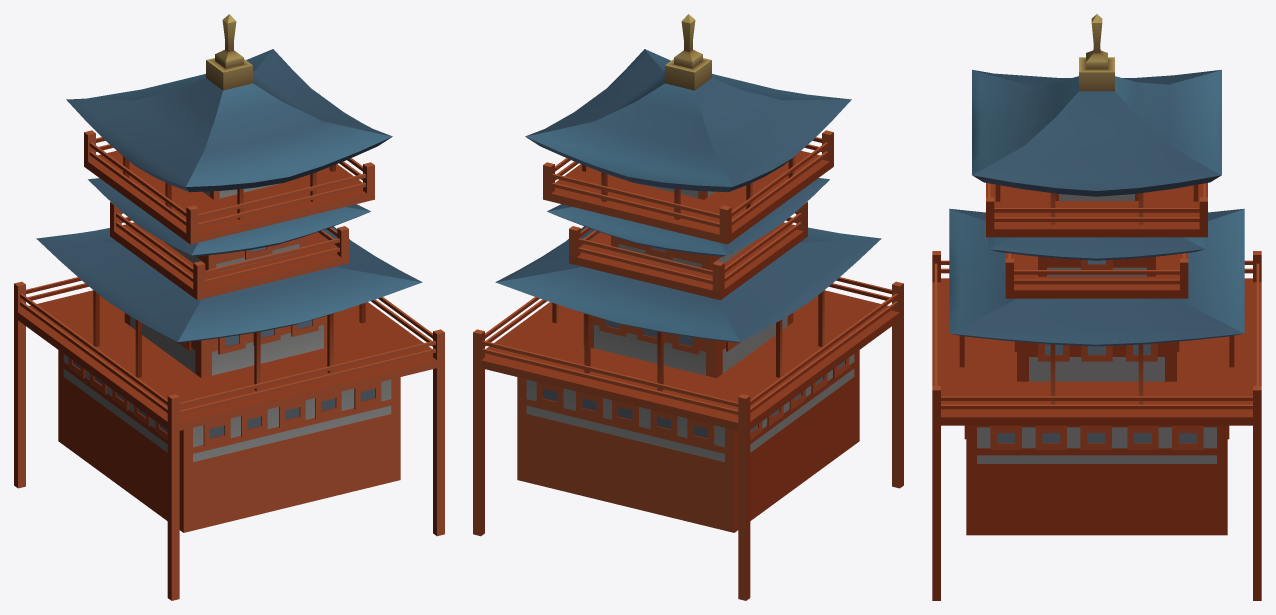
The model's file is buildings-historical-pagoda_v1.glb.
3 views of the same model, side by side, from view 1: azimuth 30°, elevation 25°; view 2: azimuth 150°, elevation 25°; view 3: azimuth 270°, elevation 25° (orthographic). The views are drawn at different scales.
Visible parts, largest first — view 1: Pagoda_base, Pagoda_refl, Pagoda_windowRefl; view 2: Pagoda_base, Pagoda_refl, Pagoda_windowRefl; view 3: Pagoda_base, Pagoda_refl, Pagoda_windowRefl.
Boxes of the visible parts, left/top/right/bottom form: Pagoda_base: left=14, top=49, right=444, bottom=600; Pagoda_refl: left=206, top=14, right=252, bottom=90; Pagoda_windowRefl: left=73, top=247, right=374, bottom=438; Pagoda_base: left=473, top=49, right=903, bottom=600; Pagoda_refl: left=665, top=14, right=711, bottom=90; Pagoda_windowRefl: left=543, top=247, right=844, bottom=438; Pagoda_base: left=932, top=69, right=1261, bottom=600; Pagoda_refl: left=1079, top=14, right=1114, bottom=91; Pagoda_windowRefl: left=997, top=260, right=1196, bottom=443.
Size of the model in its own units: 16.81 by 29.18 by 16.82.
